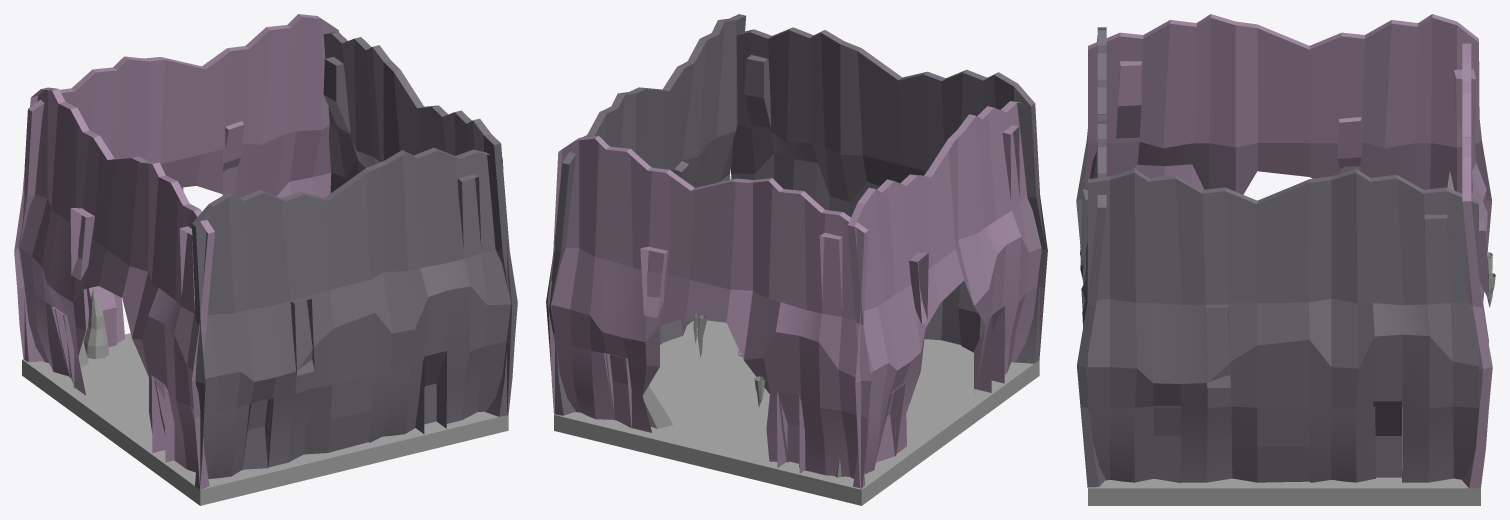
The model's file is Grotte_entree_grotte_int_v3.fbx.
3 views of the same model, side by side, from view 1: azimuth 30°, elevation 25°; view 2: azimuth 150°, elevation 25°; view 3: azimuth 270°, elevation 25° (orthographic). The views are drawn at different scales.
Visible parts, largest first — view 1: murs_rocheux11, murs_rocheux_entree1, murs_rocheux_entree, murs_rocheux2, sol10, Stalagmite18; view 2: murs_rocheux_entree, murs_rocheux_entree1, murs_rocheux11, sol10, murs_rocheux2, Stalagmite23; view 3: murs_rocheux2, murs_rocheux_entree1, sol10, murs_rocheux_entree, murs_rocheux11.
Part boxes in pixels (x1,y1,x2,y2): murs_rocheux11: (191,147,511,489); murs_rocheux_entree1: (14,87,214,489); murs_rocheux_entree: (19,14,338,362); murs_rocheux2: (323,32,517,416); sol10: (22,333,508,505); Stalagmite18: (83,288,108,359); murs_rocheux_entree: (547,135,868,489); murs_rocheux_entree1: (847,101,1047,488); murs_rocheux11: (731,27,1045,363); sol10: (554,320,1039,505); murs_rocheux2: (546,14,746,415); Stalagmite23: (623,357,672,428); murs_rocheux2: (1087,169,1482,482); murs_rocheux_entree1: (1084,14,1483,194); sol10: (1088,407,1480,505); murs_rocheux_entree: (1453,43,1492,488); murs_rocheux11: (1076,27,1106,487).
Size of the model in its own units: 847 by 777 by 854.
